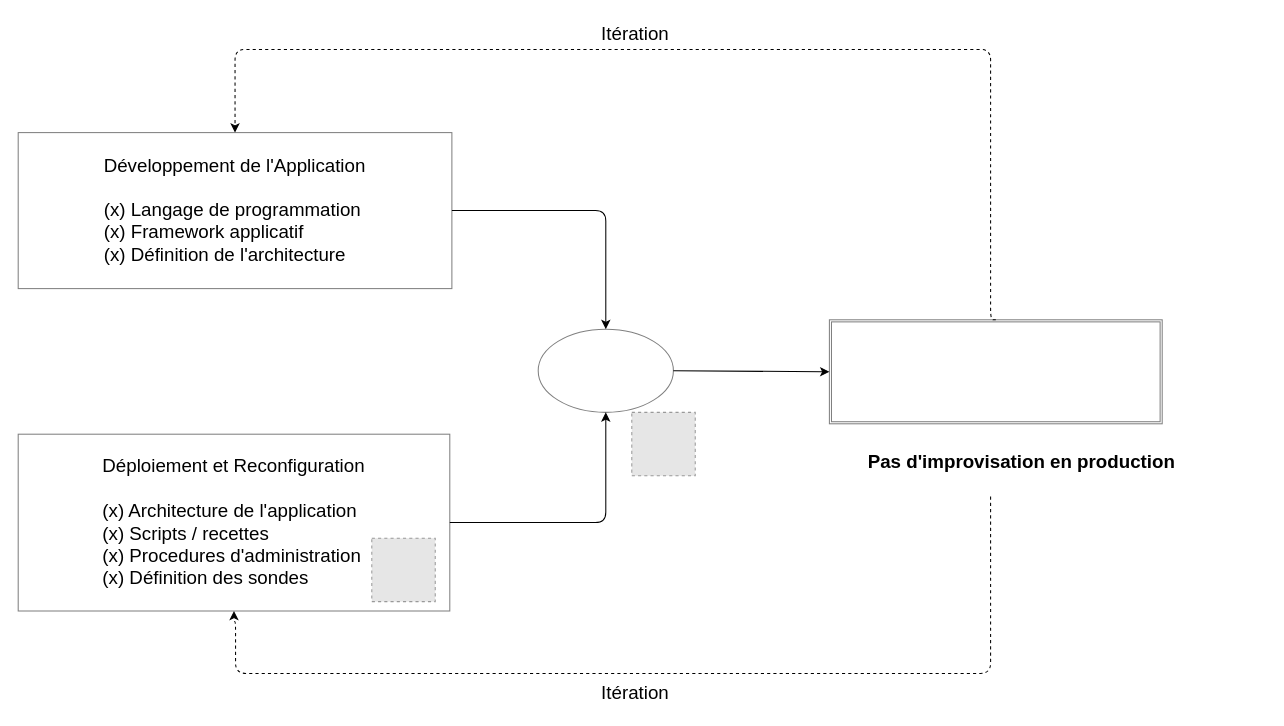
The diagram is 1284 pixels wide and 726 high, and some of its shapes have lost their labels. Grey dashed boxes stand in for pictures. Each missing label, with the centre of its shape:
"Application Roboconf" goes at point 605,370.
"Test / Environment(s) de Production" goes at point 995,371.
